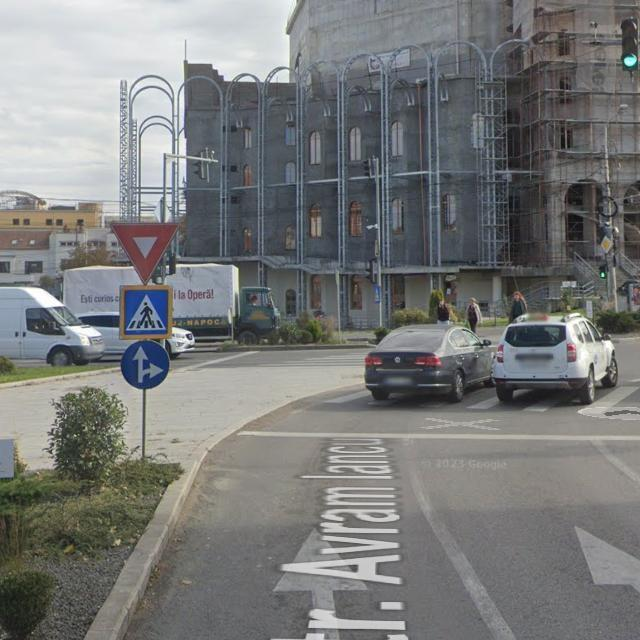info_crosswalk: (117, 284, 172, 341)
prio_give_way: (108, 221, 180, 285)
